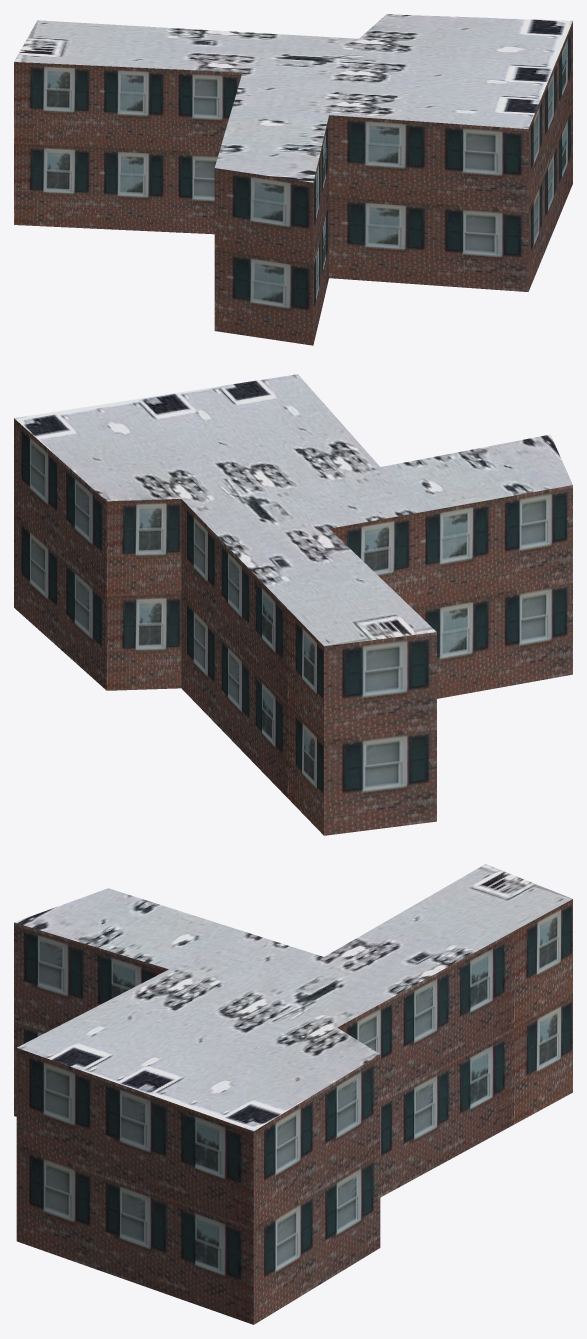
The model's file is ResTex__3316.fbx.
The picture shows the model from 3 angles, top to bottom: view 1: azimuth 30°, elevation 25°; view 2: azimuth 150°, elevation 25°; view 3: azimuth 270°, elevation 25°; orthographic projection. The views are drawn at different scales.
Visible parts, largest first — view 1: CityEngineMaterial_14_m, CityEngineMaterial_4_m; view 2: CityEngineMaterial_14_m, CityEngineMaterial_4_m; view 3: CityEngineMaterial_14_m, CityEngineMaterial_4_m.
Part boxes in pixels (<box>): CityEngineMaterial_14_m: <box>14,21,572,345</box>; CityEngineMaterial_4_m: <box>14,14,572,182</box>; CityEngineMaterial_14_m: <box>14,418,572,835</box>; CityEngineMaterial_4_m: <box>14,374,572,646</box>; CityEngineMaterial_14_m: <box>14,899,572,1324</box>; CityEngineMaterial_4_m: <box>14,864,572,1131</box>.
Size of the model in its own units: 17.77 by 6 by 15.7.
2 materials, 2 textured.
